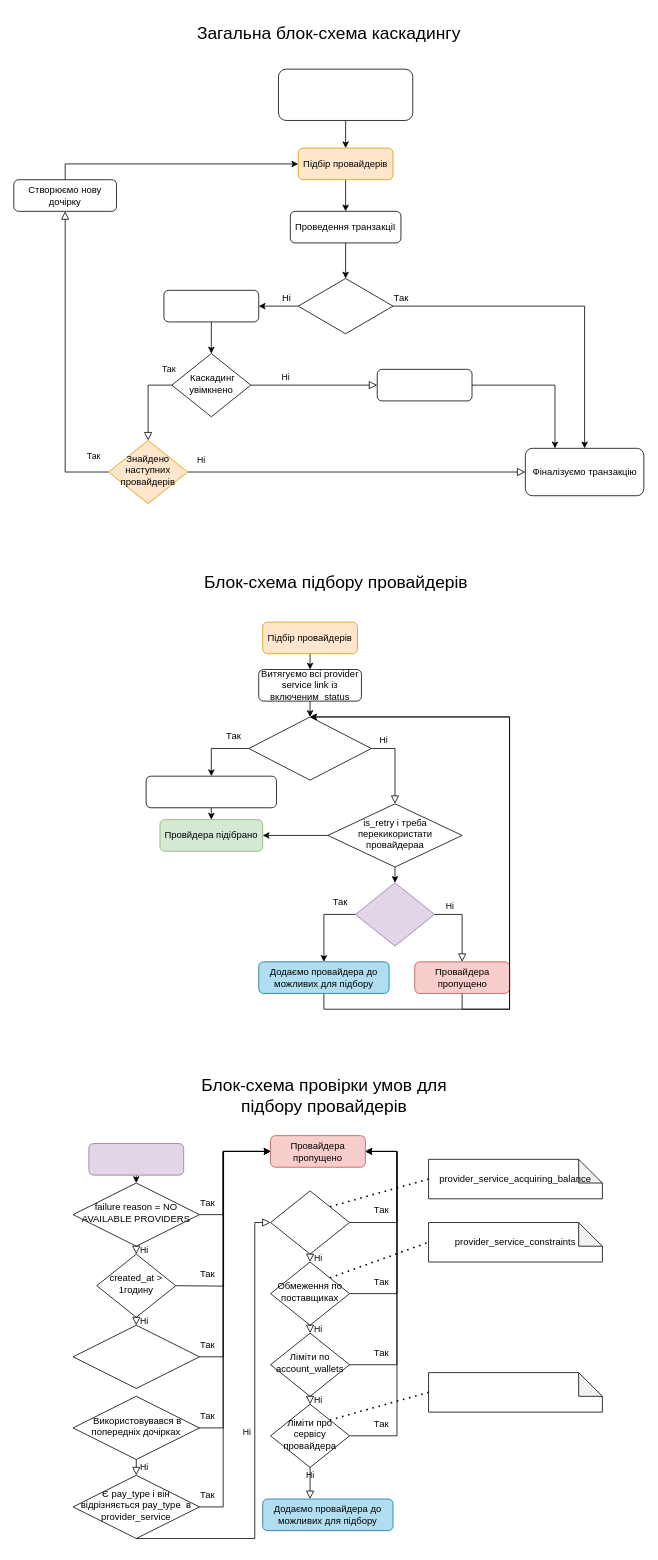
Image size: 658x1560. Some labels were removed from this diagram. Here are the shapes that lost their labels. From the top down, the centre of each, then its label:
At [345,94]: "Створення транзакції".
At [211,306]: "Встановлення Failed".
At [345,306]: "Транзакція успішна".
At [424,385]: "Не запускаємо каскадинг".
At [309,748]: "Всі провайдери пройшли валідацію".
At [210,791]: "Підбираємо провайдера, враховуючи вагу і пріоритет".
At [394,914]: "Усі умови провірено".
At [136,1159]: "Провірка умов".
At [310,1222]: "Настройки лимиту входу-виходу".
At [135,1356]: "Провірка trusted customer providers (black/white lists)".
At [515,1392]: "provider_service_limit".
